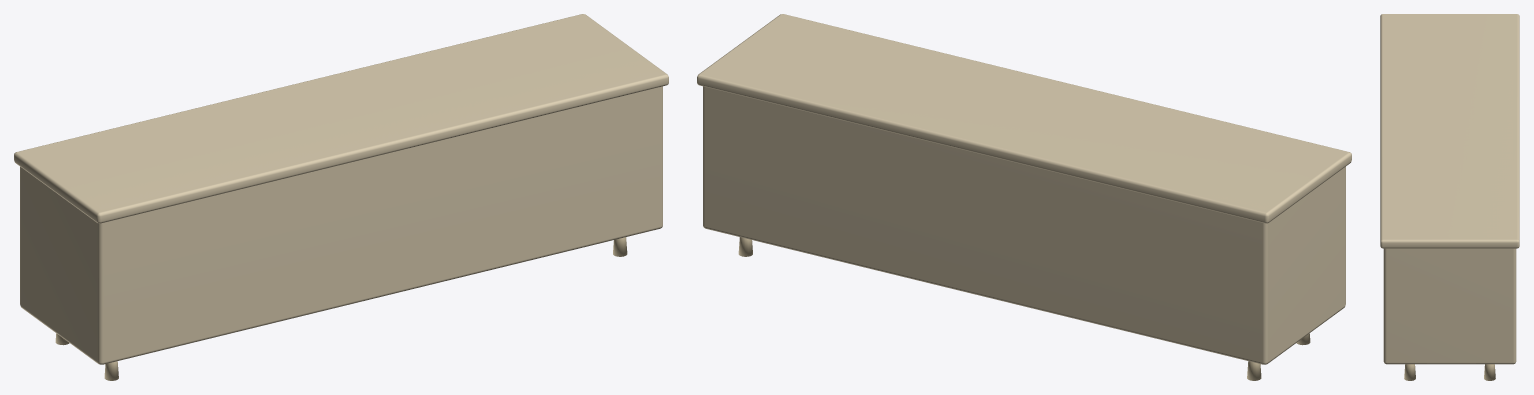
The model's file is tv_console.glb.
The picture shows the model from 3 angles, left to right: view 1: azimuth 30°, elevation 25°; view 2: azimuth 150°, elevation 25°; view 3: azimuth 270°, elevation 25°; orthographic projection. The views are drawn at different scales.
Parts seen in each view (by area): view 1: body; view 2: body; view 3: body.
Boxes of the visible parts, x1=… form: body: x1=14, y1=14, x2=668, y2=380; body: x1=697, y1=14, x2=1351, y2=380; body: x1=1380, y1=14, x2=1519, y2=380.
Bounding box in the file's own units: 1.62 × 0.5 × 0.42.
